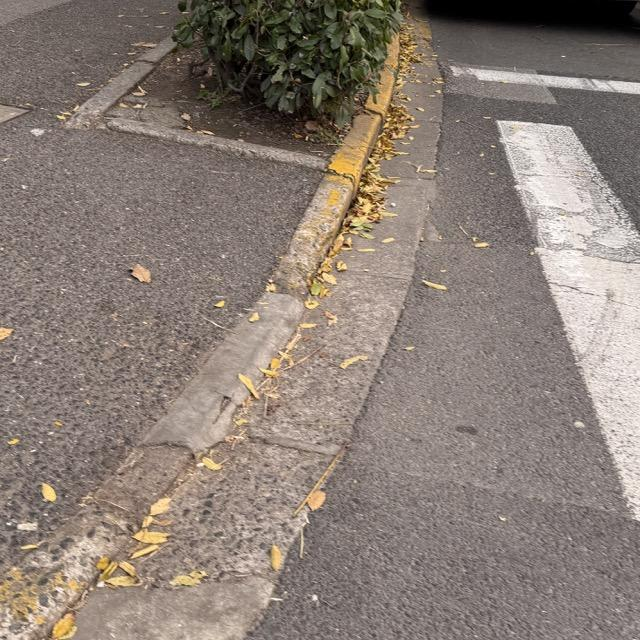curb: (0, 174, 353, 639), (327, 36, 398, 192)
